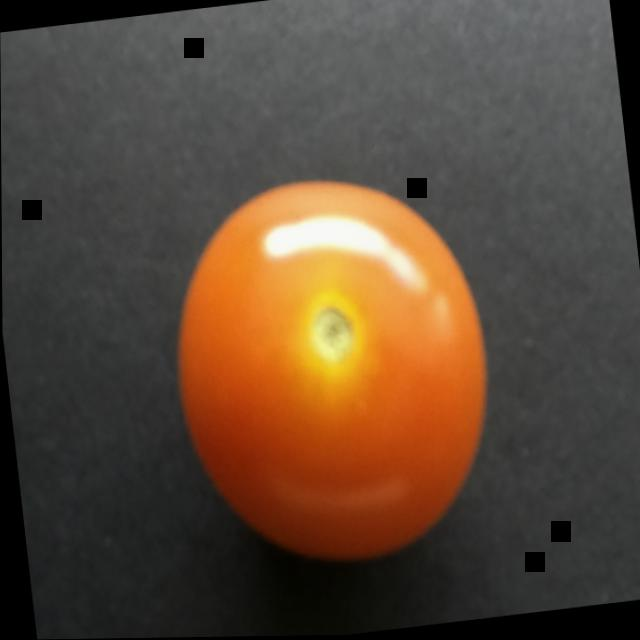Tomato: (115, 142, 536, 632)
